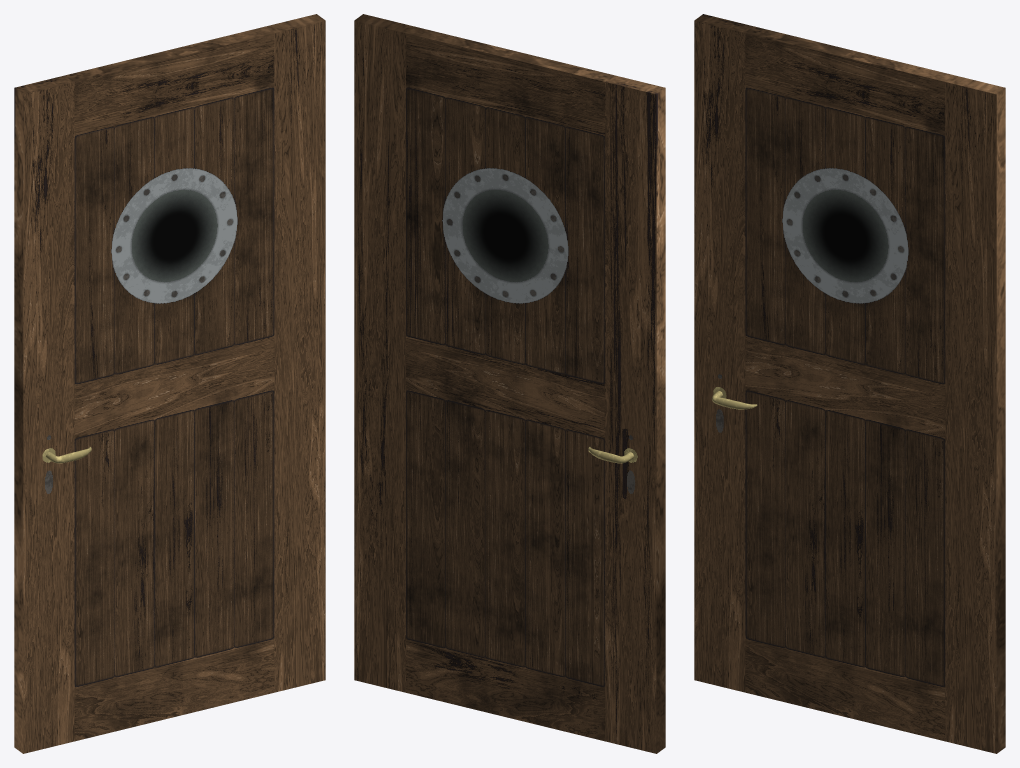
File: ShipDoor.fbx
3 views of the same model, side by side, from view 1: azimuth 30°, elevation 25°; view 2: azimuth 150°, elevation 25°; view 3: azimuth 330°, elevation 25° (orthographic).
Visible parts, largest first — view 1: ShipDoor; view 2: ShipDoor; view 3: ShipDoor.
Boxes of the visible parts, x1,y1,x2,y2 form: ShipDoor: (14,14,325,753); ShipDoor: (354,14,665,753); ShipDoor: (694,14,1005,753).
Size of the model in its own units: 0.96 by 2 by 0.1474.
